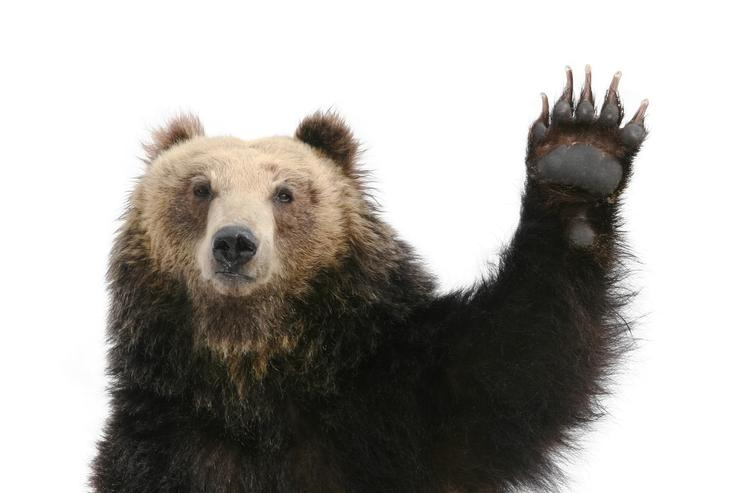bear: (102, 114, 384, 318)
